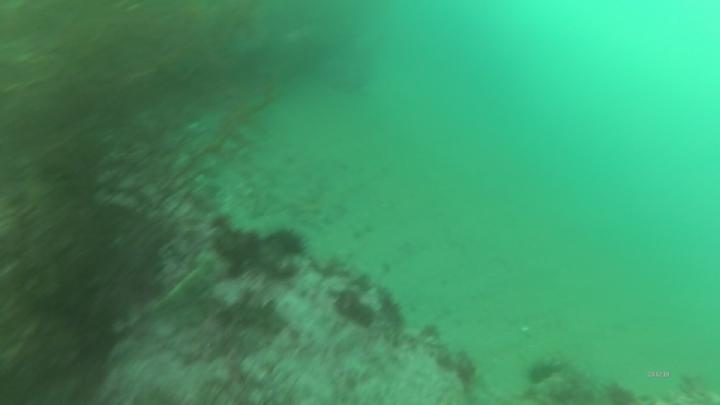holothurian: (153, 257, 222, 320)
waterweeds: (1, 1, 218, 405)
